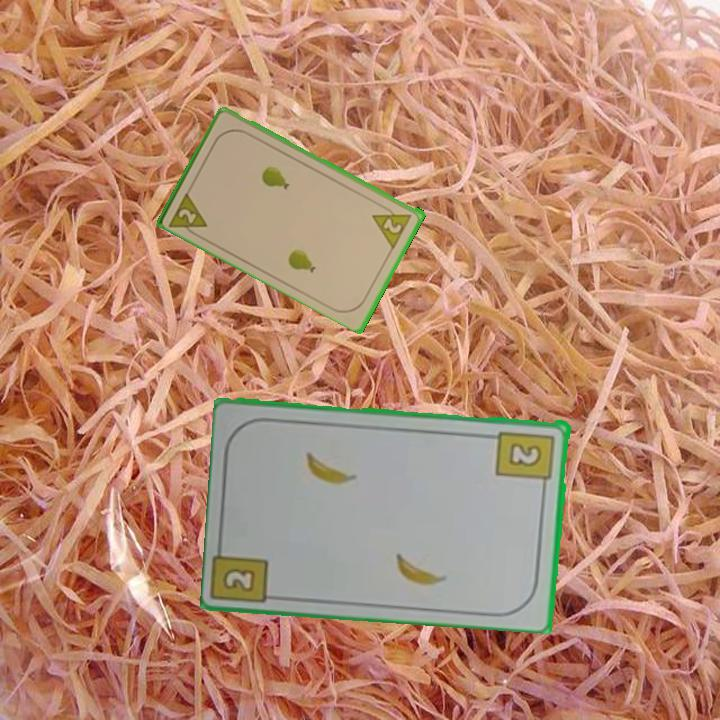2b: (494, 427, 558, 492), (219, 564, 259, 595)
2p: (369, 201, 416, 250), (175, 205, 200, 227)
